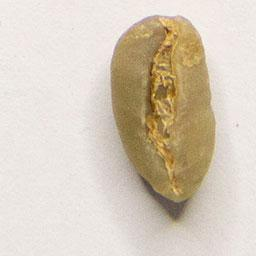longberry: (106, 11, 221, 207)
